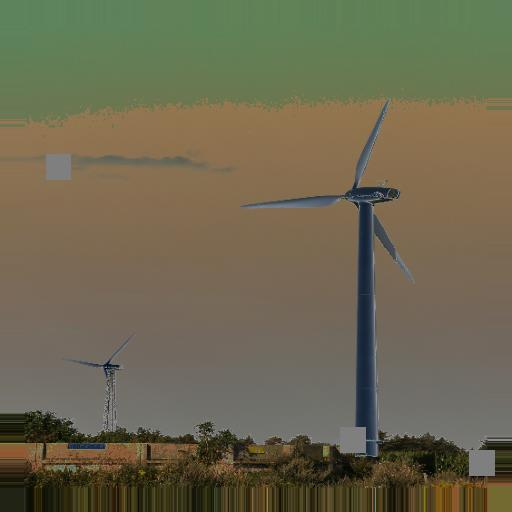wind turbine: (239, 94, 419, 461), (61, 332, 137, 439)
